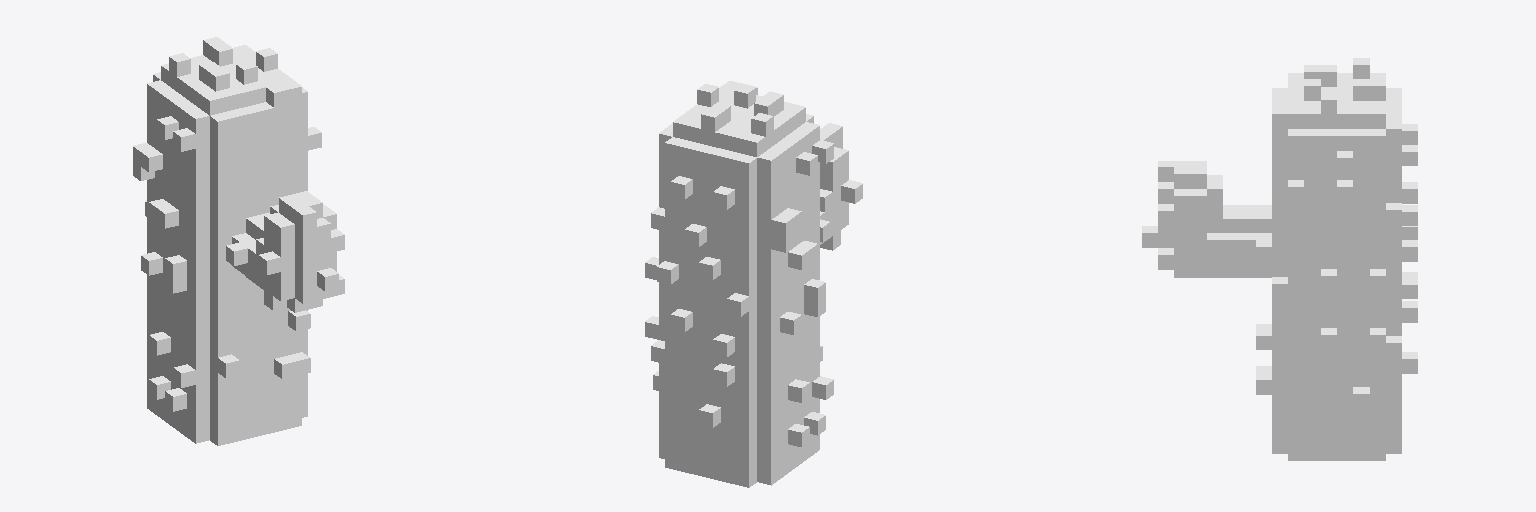
The model's file is cactus_medium.obj.
3 views of the same model, side by side, from view 1: azimuth 30°, elevation 25°; view 2: azimuth 150°, elevation 25°; view 3: azimuth 270°, elevation 25° (orthographic).
Visible parts, largest first — view 1: object 1; view 2: object 1; view 3: object 1.
Boxes of the visible parts, x1,y1,x2,y2 form: object 1: [133, 37, 344, 445]; object 1: [645, 81, 862, 487]; object 1: [1142, 58, 1417, 460].
Size of the model in its own units: 1 by 2.4 by 1.7.